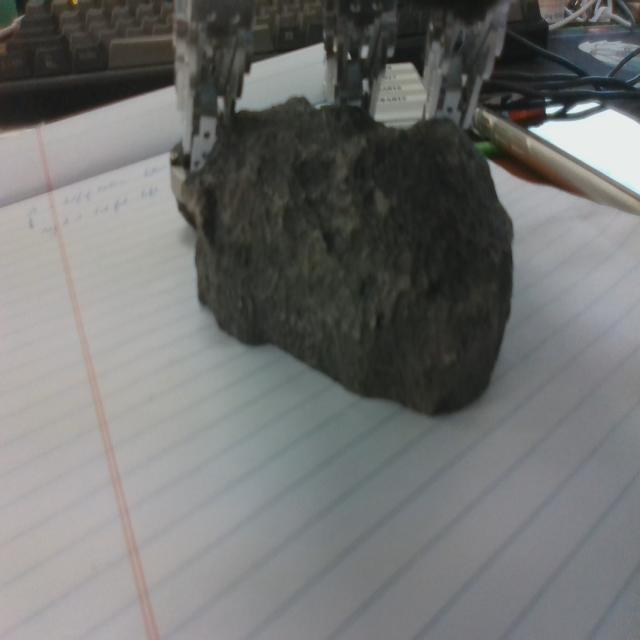stone: (181, 95, 514, 418)
